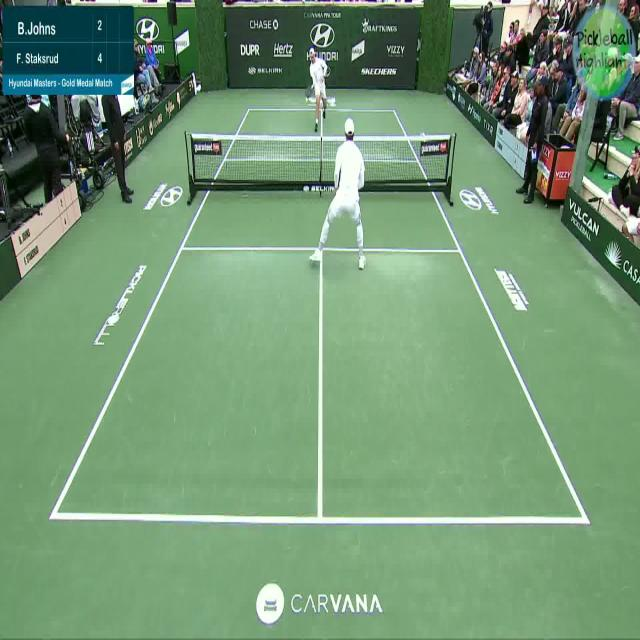ball: (304, 95, 310, 105)
